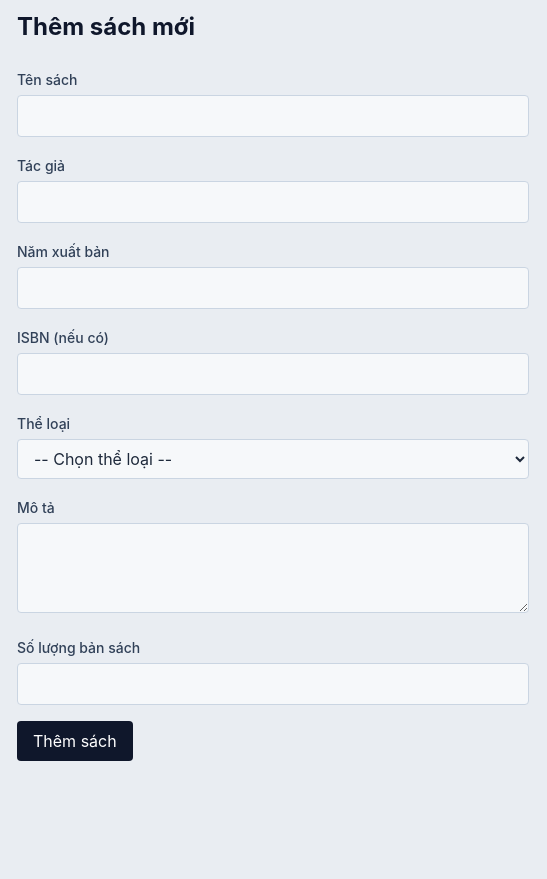
Scenario: BookCreate › rejects bad ISBN (nếu có)
This screenshot has width=547, height=879.
Expected: the field labelled "Tên sách" is shown, [17, 95, 529, 137]
In the field labelled "ISBN (nếu có)": point(273, 374) [17, 353, 529, 395], type "123"
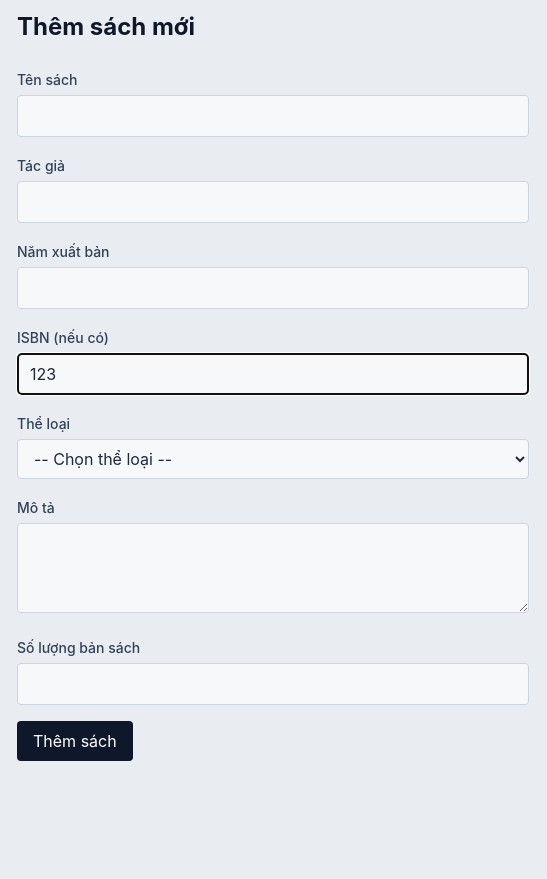
Click the button "Thêm sách": point(75, 741) [17, 721, 133, 761]
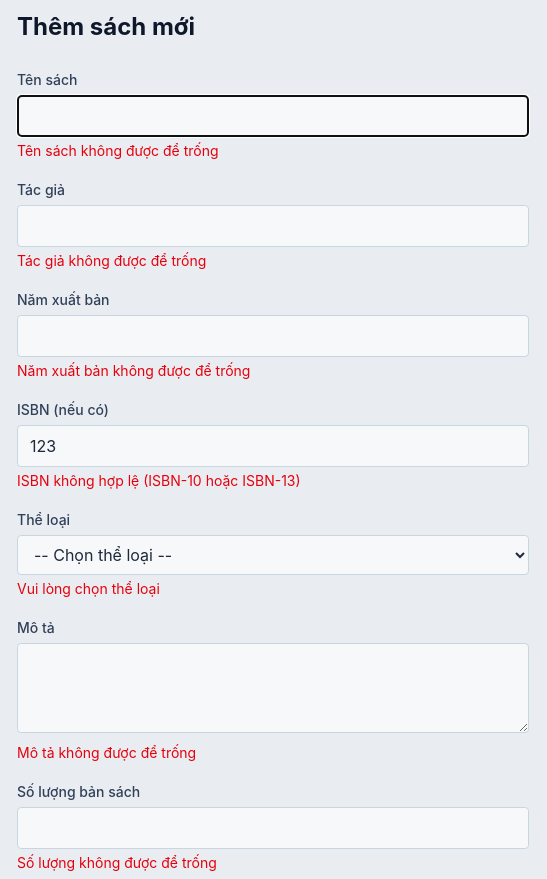
Expected: the text "ISBN không hợp lệ (ISBN-10 hoặc ISBN-13)" is shown, [17, 472, 301, 489]
